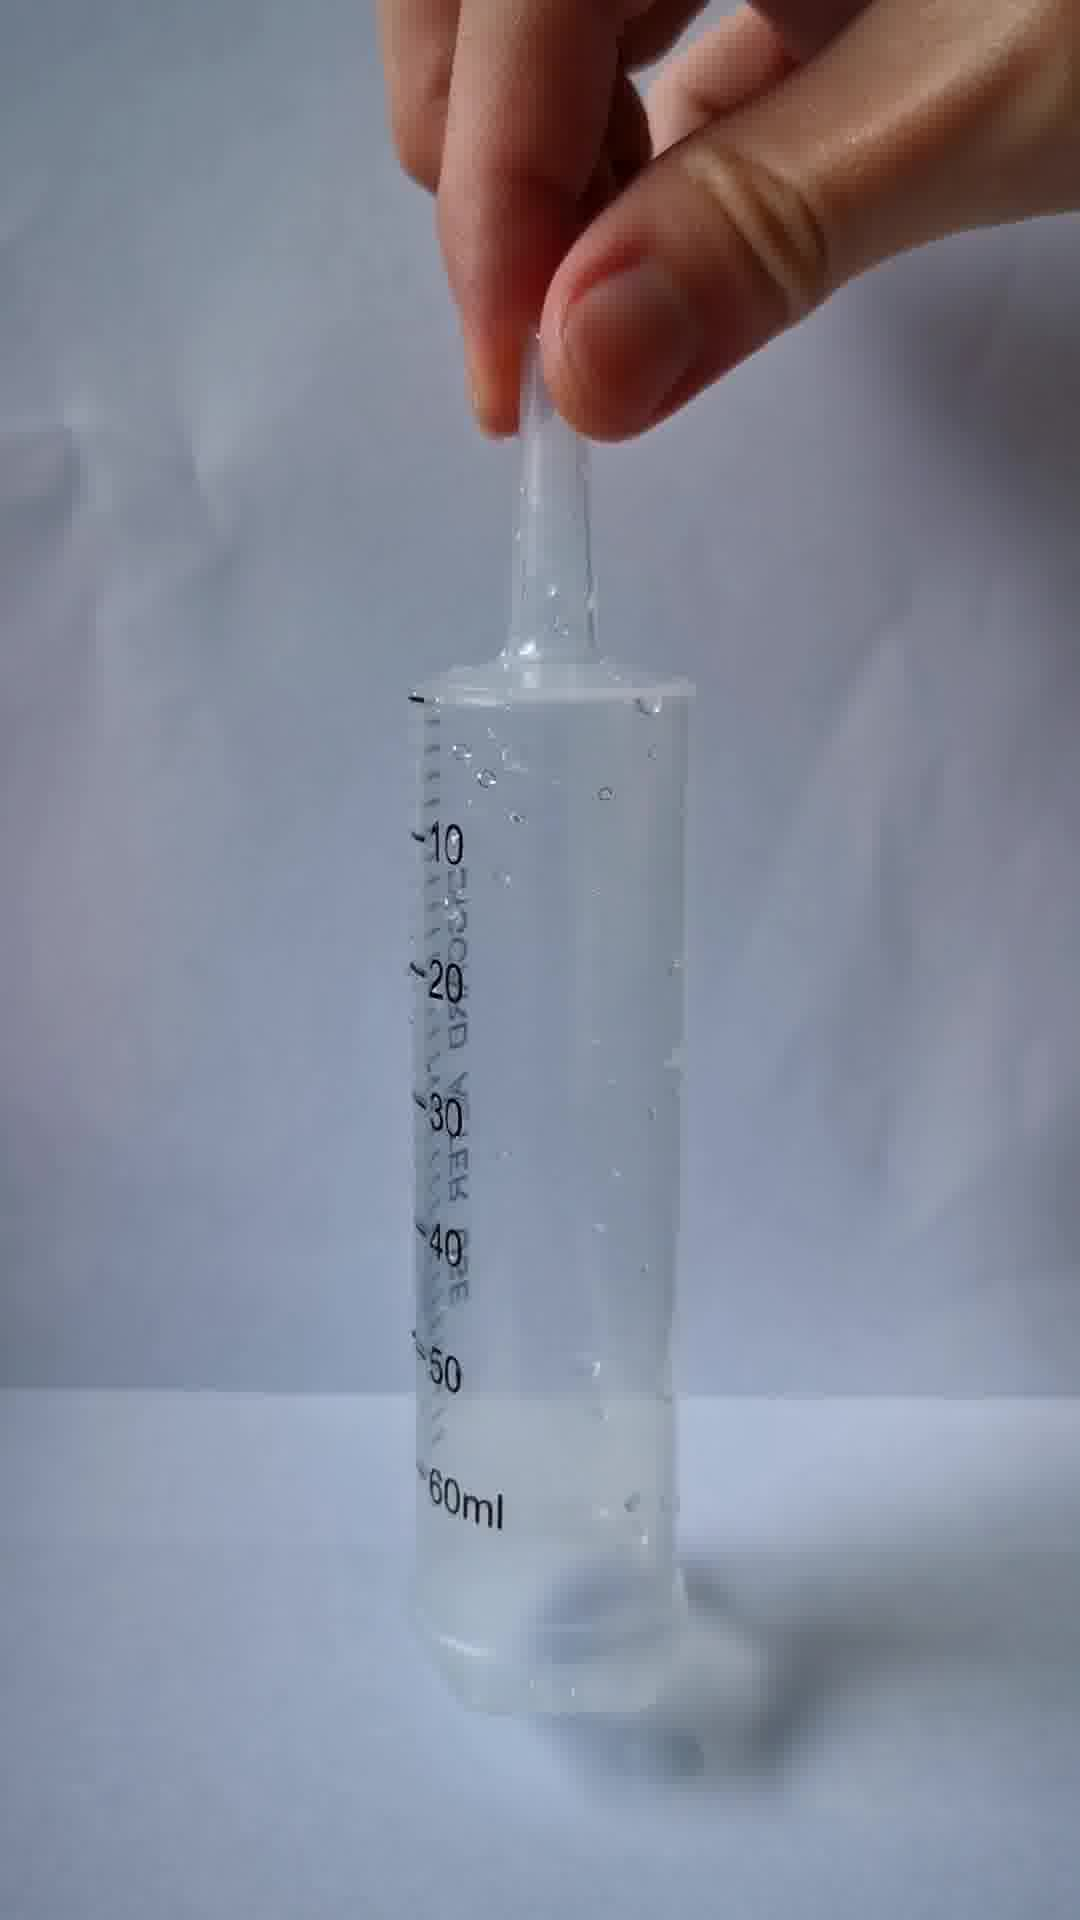syringe: (402, 340, 700, 1735)
